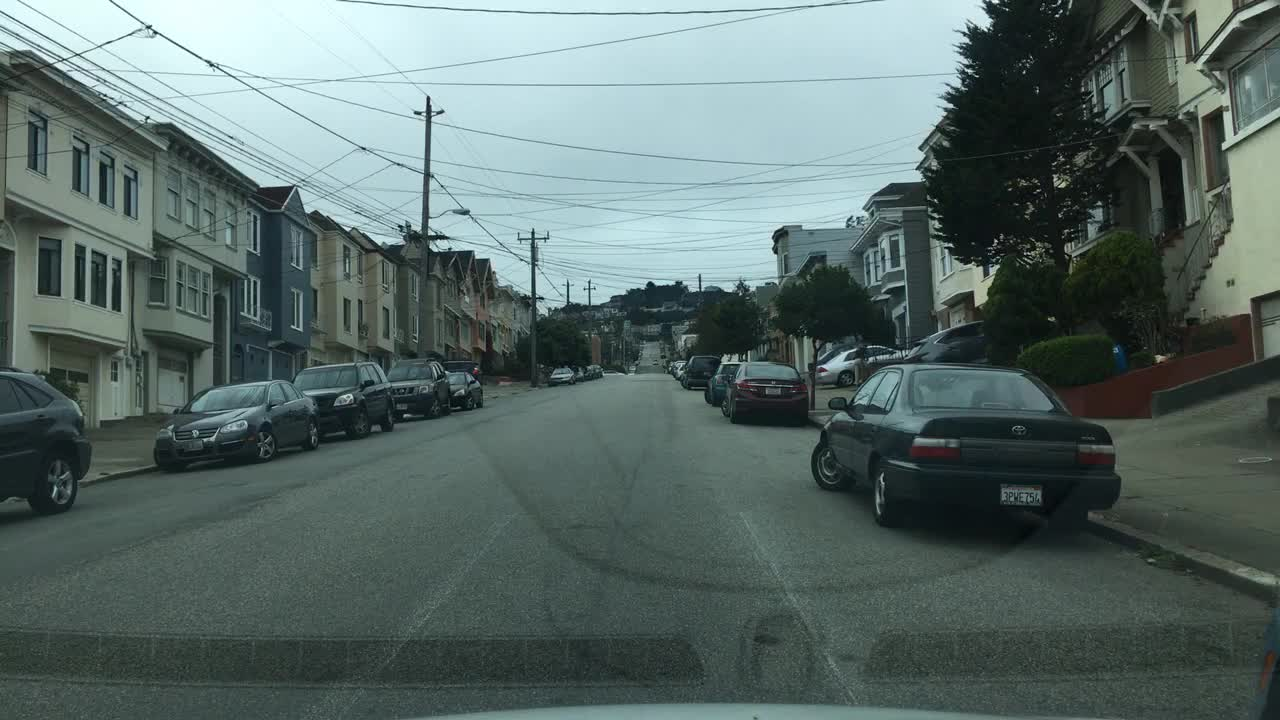car: (808, 360, 1121, 535), (151, 376, 320, 471), (0, 363, 94, 514), (290, 358, 398, 439), (719, 360, 810, 423), (384, 357, 450, 421), (814, 342, 908, 386), (904, 319, 986, 363), (807, 339, 873, 372), (704, 361, 746, 407), (446, 370, 484, 411), (679, 354, 721, 389), (548, 366, 576, 386), (672, 359, 688, 378), (570, 366, 586, 381), (590, 363, 605, 378), (664, 360, 677, 374), (584, 365, 595, 380), (667, 359, 677, 375), (627, 363, 637, 373), (652, 358, 658, 366), (660, 351, 665, 359)
person: (850, 341, 871, 386)
